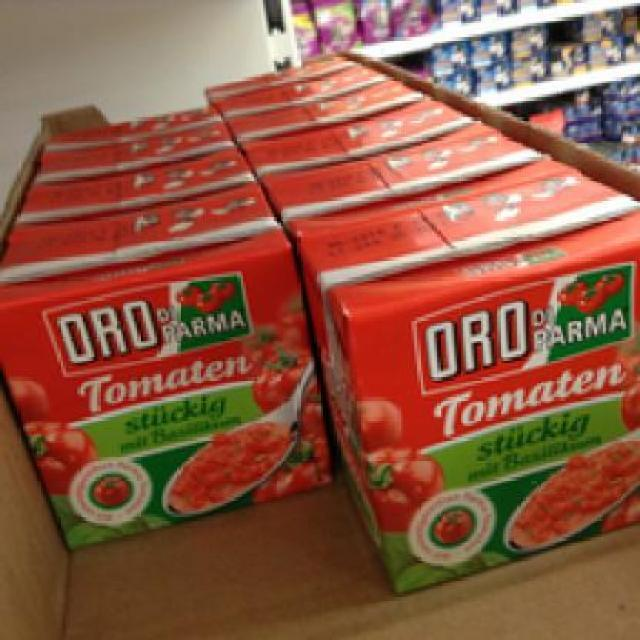Tomato Sauce: (294, 157, 637, 594), (0, 177, 329, 552)
